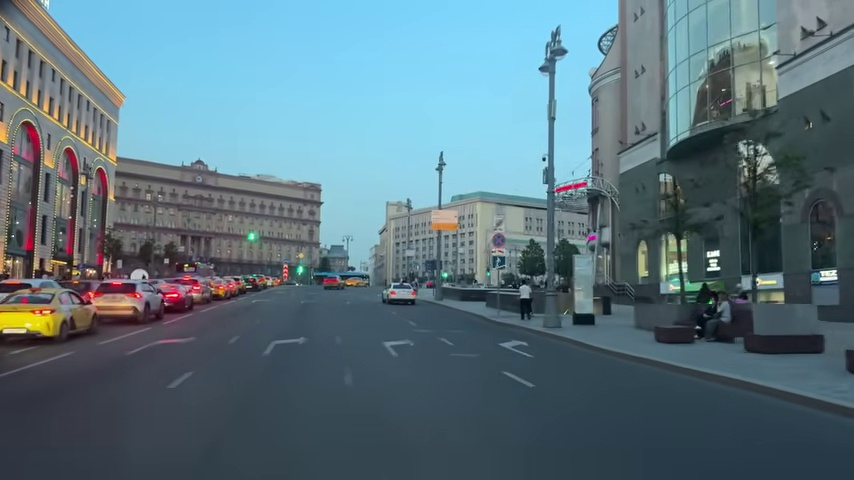apagada: (534, 45, 568, 78)
